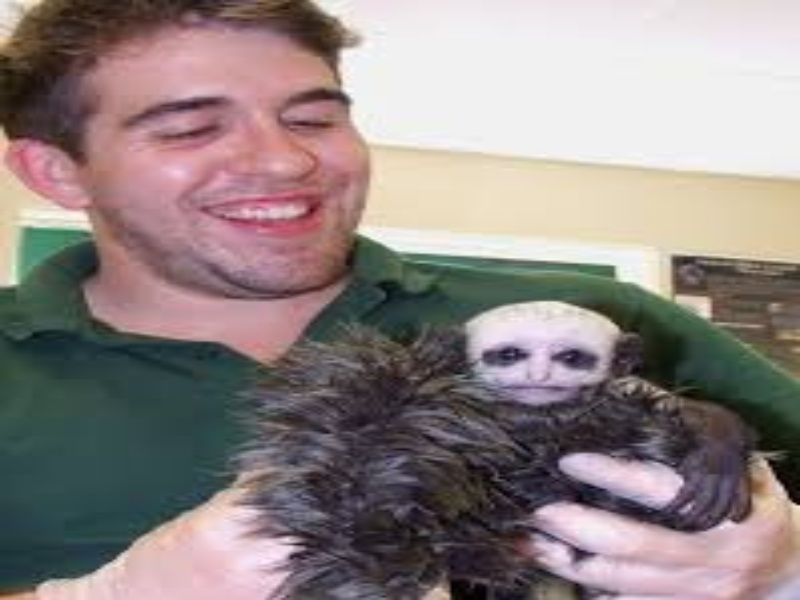monkey: (254, 302, 758, 597)
